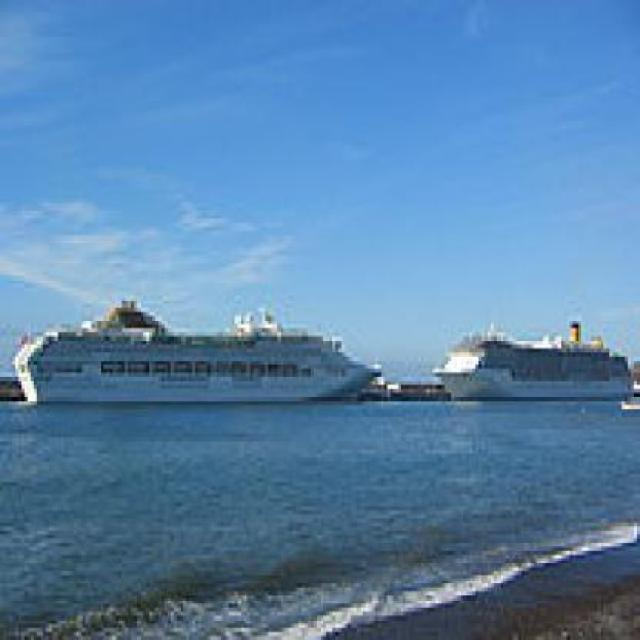cruise: (11, 289, 388, 423), (430, 297, 638, 423)
